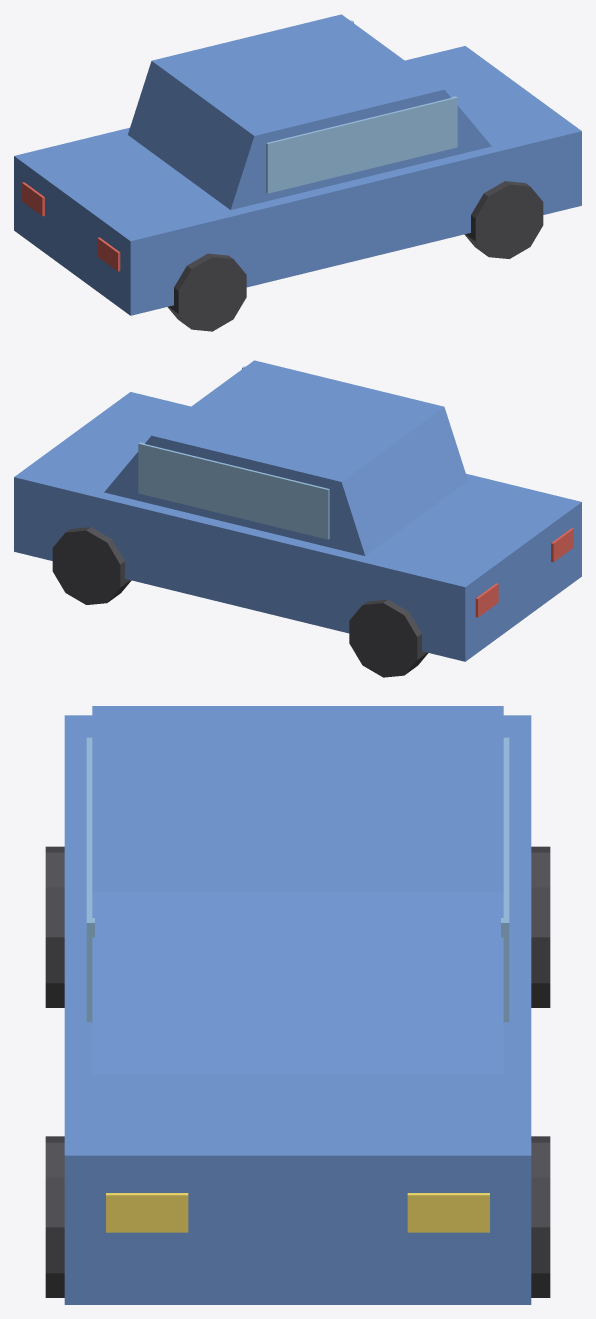
File: city__car_blue.fbx
3 renders of one model, top to bottom at view 1: azimuth 30°, elevation 25°; view 2: azimuth 150°, elevation 25°; view 3: azimuth 270°, elevation 25°, orthographic. The views are drawn at different scales.
Visible parts, largest first — view 1: city__car_blue; view 2: city__car_blue; view 3: city__car_blue.
Boxes of the visible parts, <box> form: city__car_blue: <box>14,14,581,331</box>; city__car_blue: <box>14,360,581,677</box>; city__car_blue: <box>45,706,550,1304</box>.
Bounding box in the file's own units: 3.84 × 1.4 × 1.84.
